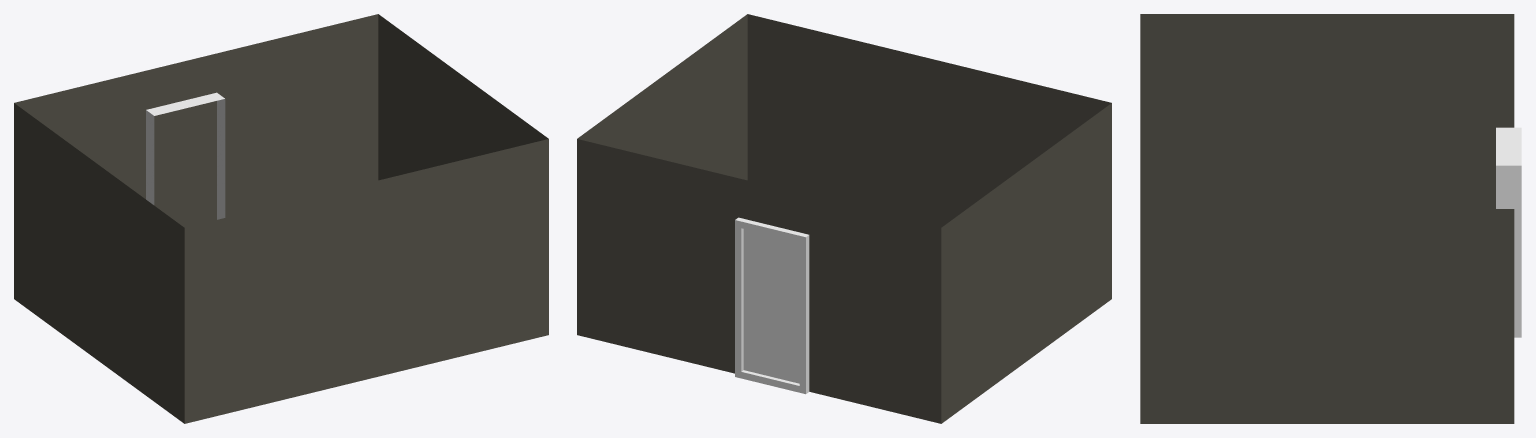
Rendered from CityBuildingC_01_base.fbx.
The picture shows the model from 3 angles, left to right: view 1: azimuth 30°, elevation 25°; view 2: azimuth 150°, elevation 25°; view 3: azimuth 270°, elevation 25°; orthographic projection. The views are drawn at different scales.
Parts seen in each view (by area): view 1: CityBuildingC_01_base; view 2: CityBuildingC_01_base; view 3: CityBuildingC_01_base.
Part boxes in pixels (x1,y1,x2,y2): CityBuildingC_01_base: (14, 14, 548, 423); CityBuildingC_01_base: (577, 14, 1111, 423); CityBuildingC_01_base: (1140, 14, 1521, 423).
Size of the model in its own units: 0.6706 by 0.3451 by 0.5547.
